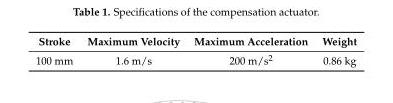table: (34, 34, 356, 66)
table column: (186, 34, 314, 66), (79, 34, 186, 66), (34, 34, 79, 66), (314, 34, 356, 66)
table column header: (34, 34, 356, 49)
table row: (34, 49, 356, 66), (34, 34, 356, 49)
